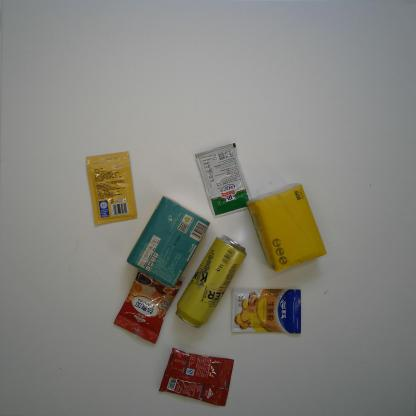Alcohol: (174, 234, 247, 329)
Instant Drink: (113, 270, 183, 344), (158, 346, 235, 406)
Seasoner: (194, 142, 252, 219), (85, 151, 139, 226), (231, 288, 302, 335)
Tissue: (126, 195, 212, 289), (244, 182, 328, 273)
